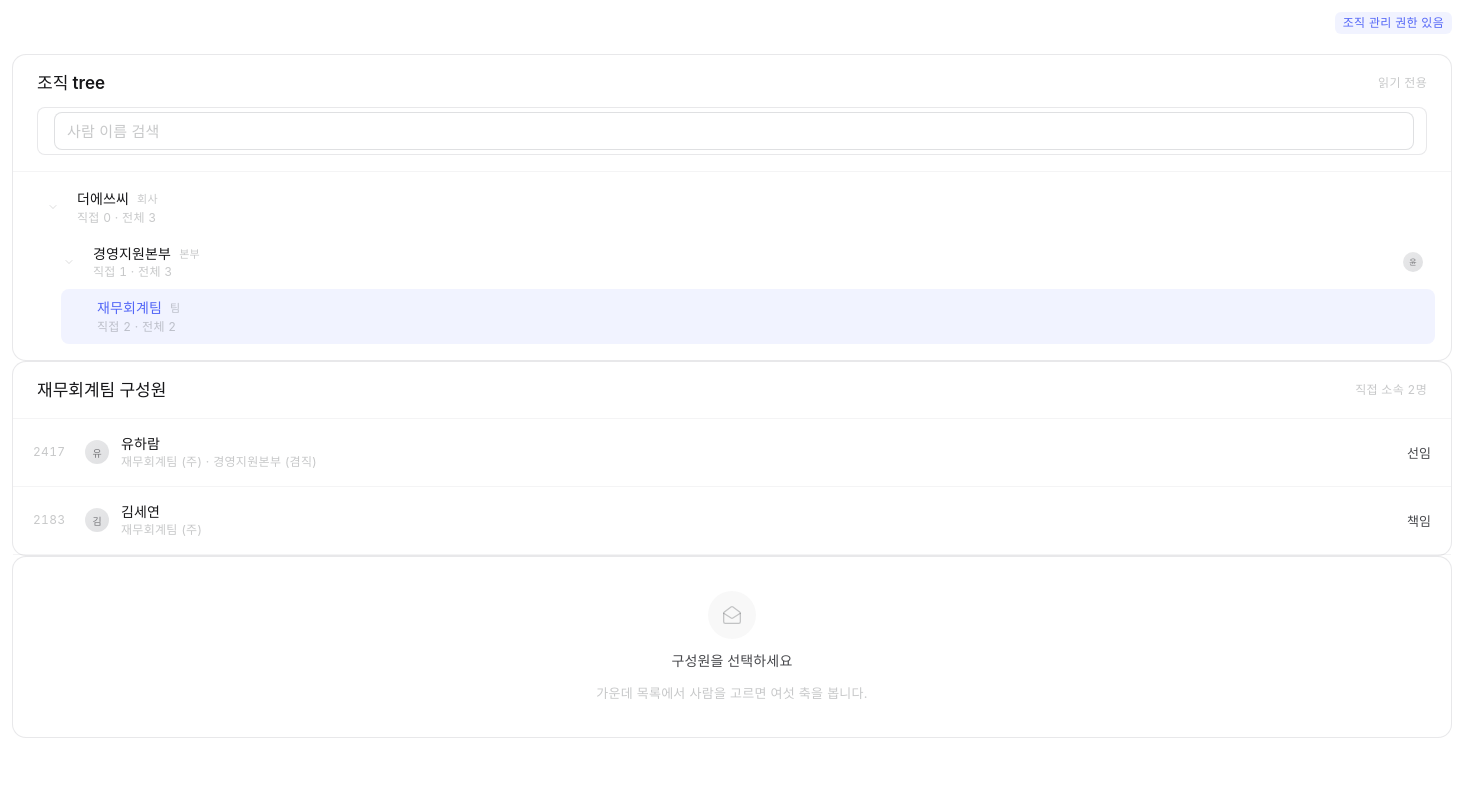
Test: OrgPage — 조직 화면 v3 › 한 사람은 members/{id} 한 번으로 읽는다 — 목록 응답과 access 를 이어 붙이지 않는다
The width and height of the screenshot is (1464, 810).
Click the button "2417 유 유하람 재무회계팀 (주) · 경영지원본부 (겸직) 선임".
click(49, 452)  # box 13,419 -> 1451,487
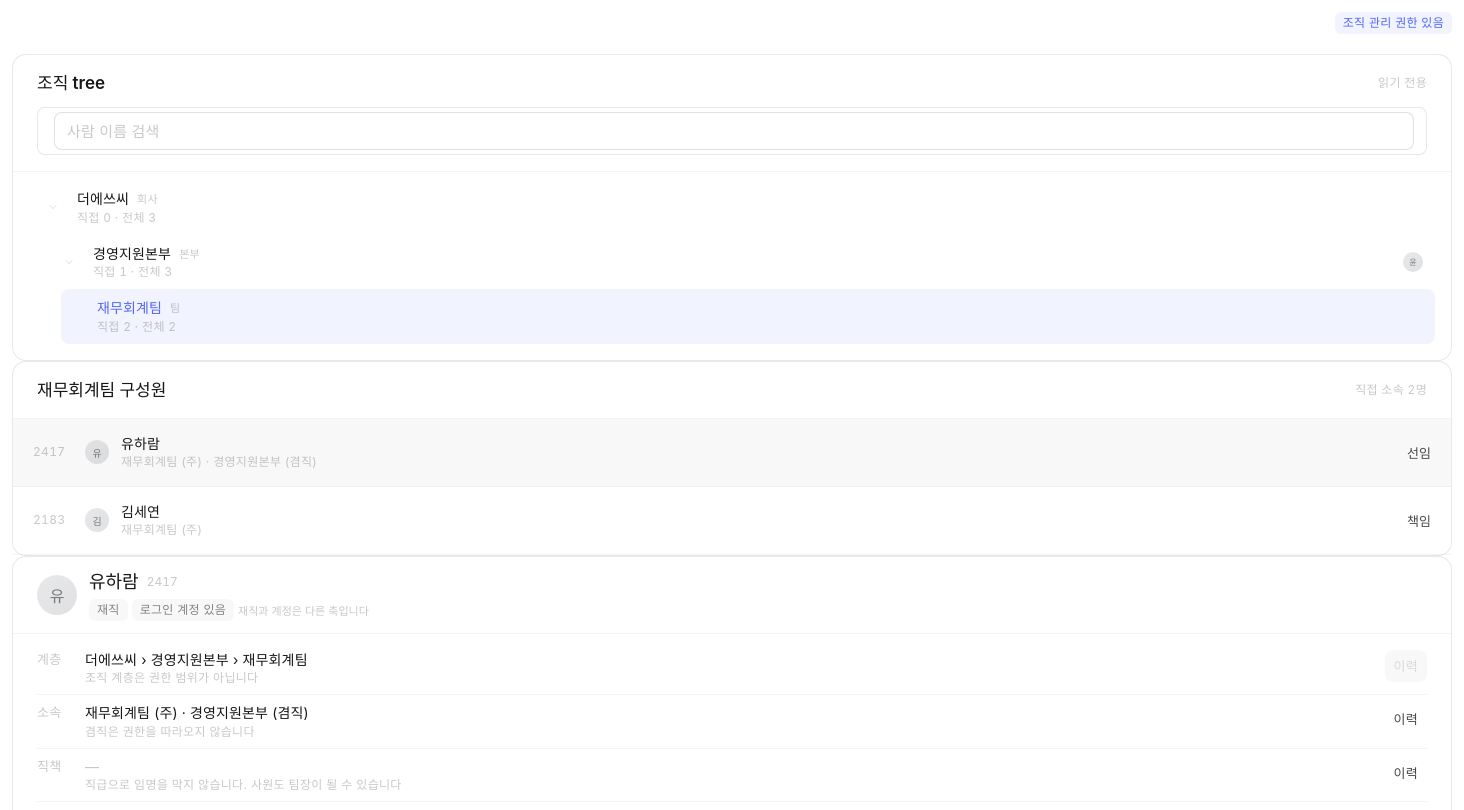
Expected: the text "더에쓰씨 › 경영지원본부 › 재무회계팀" is shown, 85,651 -> 308,668
Expected: the text "재무회계팀 (주) · 경영지원본부 (겸직)" below "조직 계층은 권한 범위가 아닙니다" is shown, 85,704 -> 309,721
